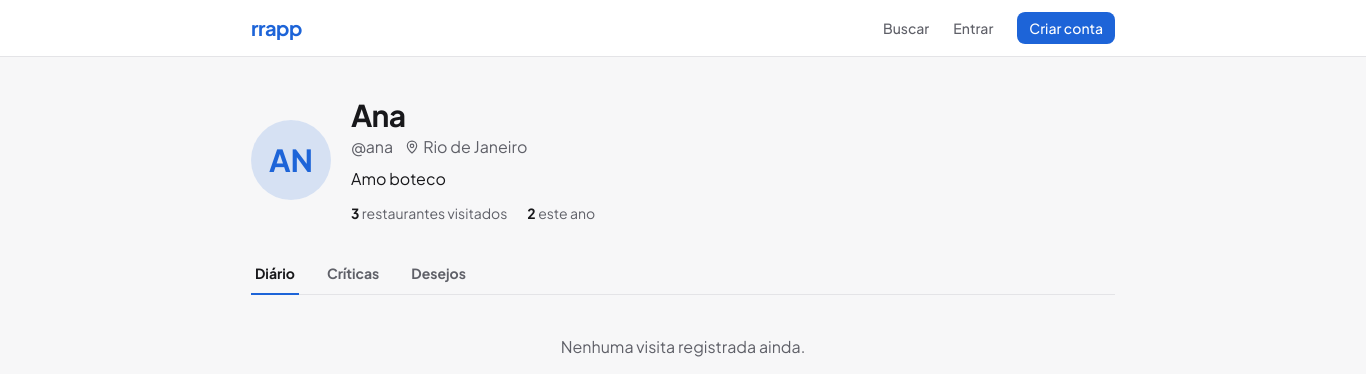
Test: vazio no perfil de outra pessoa
This screenshot has width=1366, height=374.
Click the tab "Desejos".
click(439, 279)  # box [407,263,470,295]
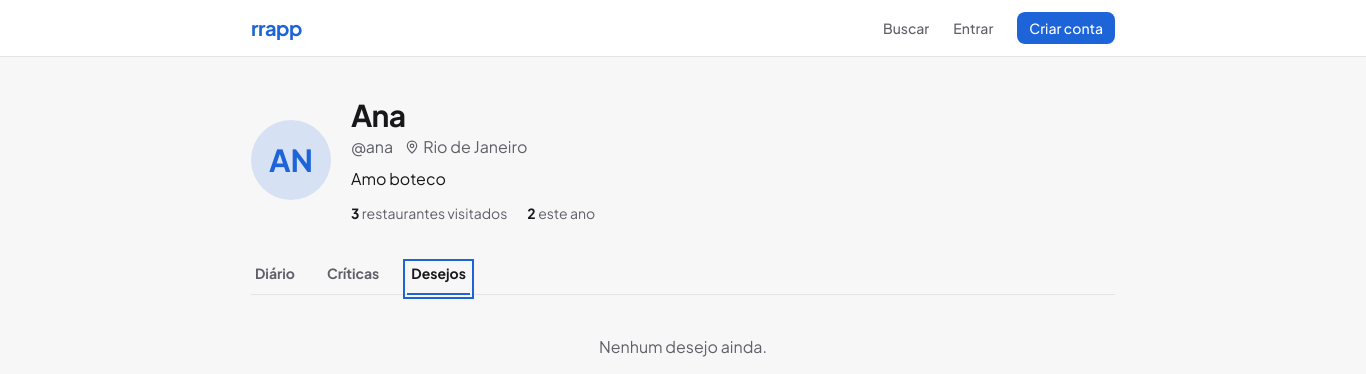
Now the text "Nenhum desejo ainda." is shown, box [599,336,767,357]
